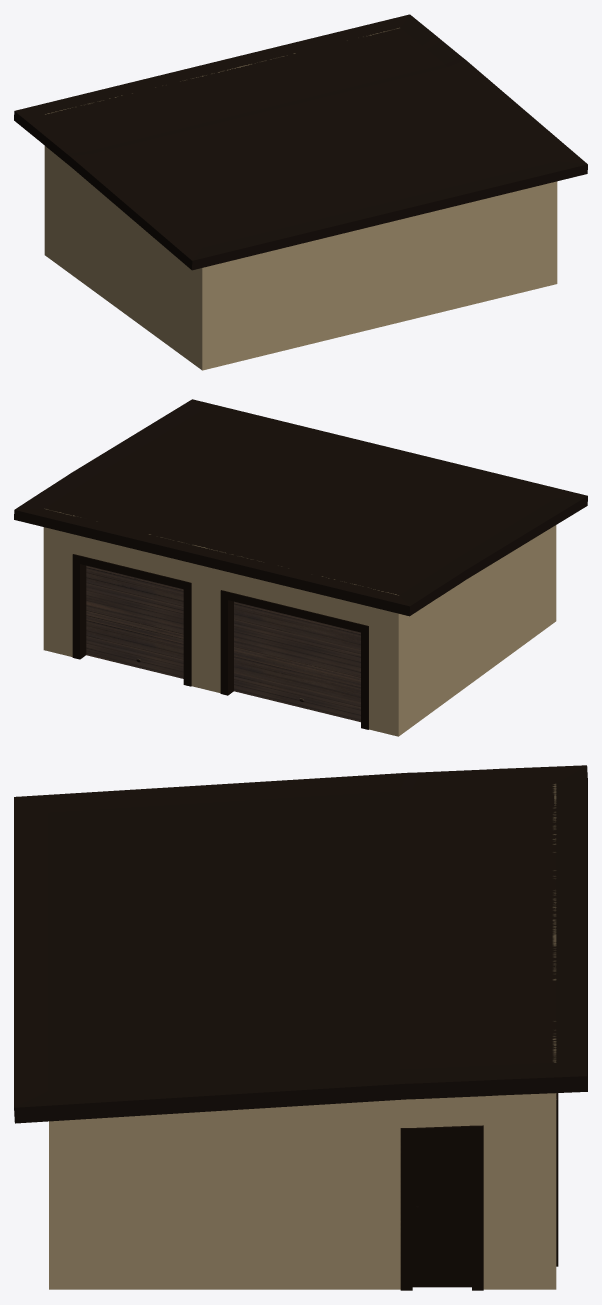
File: double_garage.obj
The picture shows the model from 3 angles, top to bottom: view 1: azimuth 30°, elevation 25°; view 2: azimuth 150°, elevation 25°; view 3: azimuth 270°, elevation 25°; orthographic projection. The views are drawn at different scales.
Parts seen in each view (by area): view 1: Garage_Cube.001; view 2: Garage_Cube.001; view 3: Garage_Cube.001.
Part boxes in pixels (x1=…): Garage_Cube.001: x1=14, y1=14, x2=587, y2=370; Garage_Cube.001: x1=14, y1=399, x2=587, y2=736; Garage_Cube.001: x1=14, y1=765, x2=587, y2=1290.
Bounding box in the file's own units: 8.74 × 3.01 × 6.82.
Materials: 1 (1 with a texture image).
